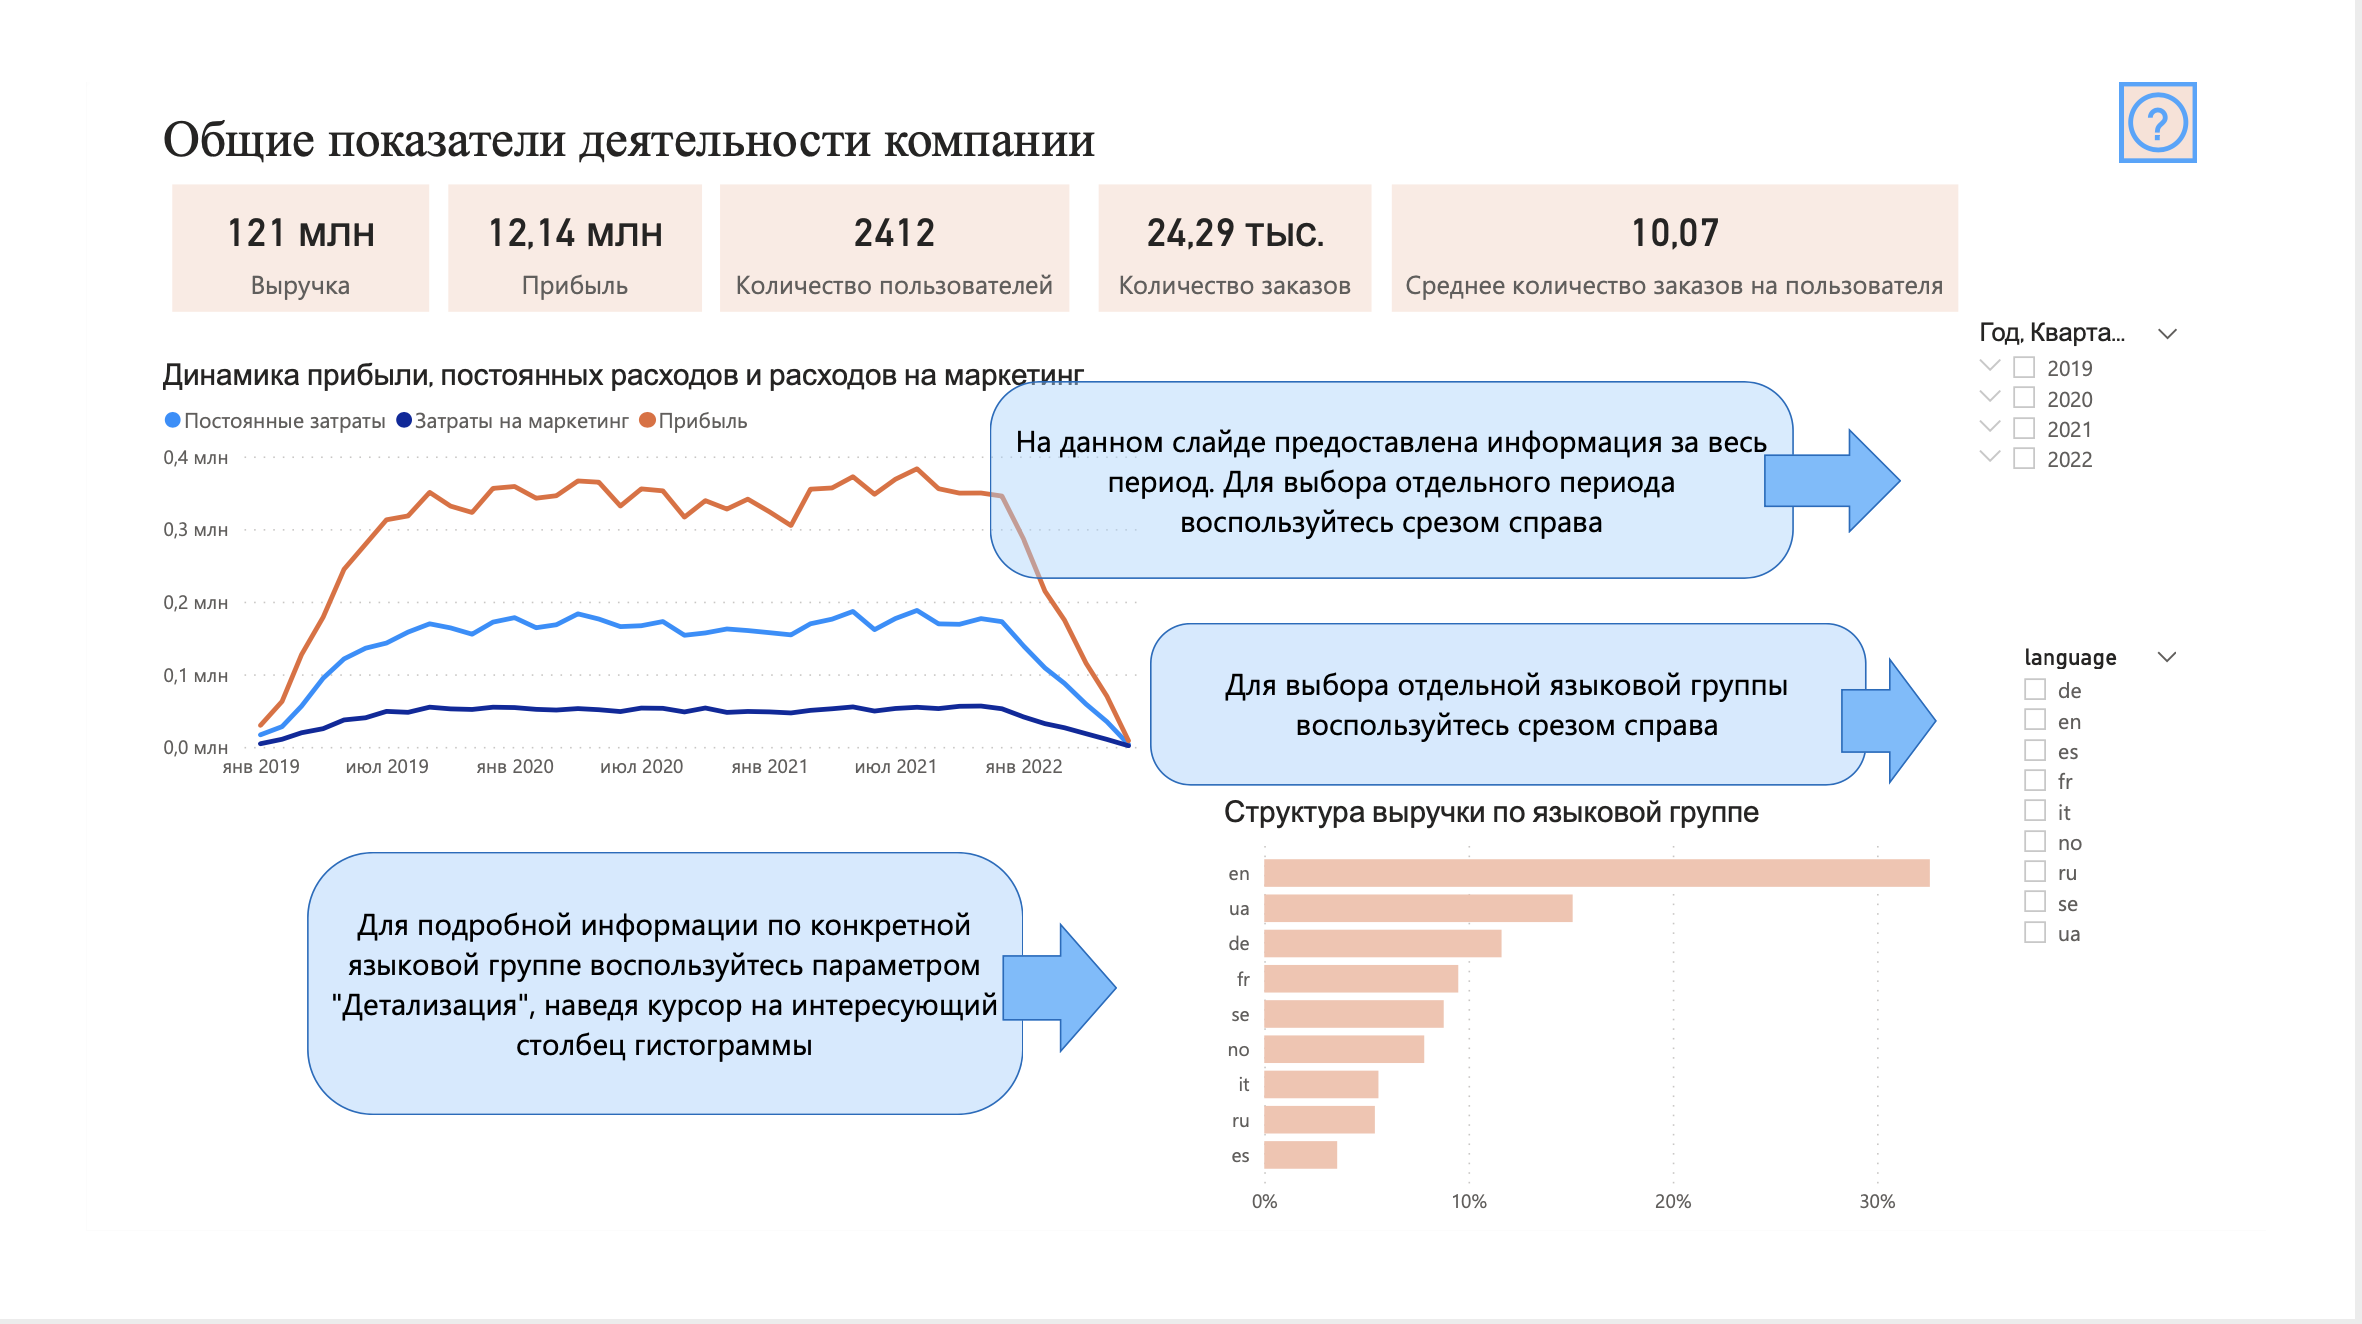

The page's visual inventory and layout, read from the dashboard file:
{"tool":"powerbi","page":{"name":"Общие данные","canvas":[1280,720],"ordinal":1},"visuals":[{"type":"slicer","fields":{"Values":["Все пользователи.language"]},"box":[1158.6,346.6,121.4,204.7],"z":0},{"type":"slicer","fields":{"Values":["Все пользователи.created_date.Изменение.Иерархия дат.Год","Все пользователи.created_date.Изменение.Иерархия дат.Квартал","Все пользователи.created_date.Изменение.Иерархия дат.Месяц","Все пользователи.created_date.Изменение.Иерархия дат.День"]},"box":[1130,143.9,150,203.6],"z":1000},{"type":"textbox","box":[0,12.2,1205,52.1],"z":2000},{"type":"card","fields":{"Values":["Sum(Все пользователи.transaction_value)"]},"box":[10.7,64.3,160.8,79.6],"z":3000},{"type":"card","fields":{"Values":["Sum(Все пользователи.commission)"]},"box":[183.7,64.3,159.2,79.6],"z":4000},{"type":"card","fields":{"Values":["Все пользователи.Среднее количество заказов на пользователя"]},"box":[774.7,64.3,355.2,79.6],"z":5000},{"type":"card","fields":{"Values":["Count(Все пользователи.user_id)"]},"box":[353.7,64.3,218.9,79.6],"z":6000},{"type":"card","fields":{"Values":["Count(Все пользователи.order_id)"]},"box":[591,64.3,171.5,79.6],"z":7000},{"type":"clusteredColumnChart","title":"Динамика выручки","fields":{"Category":["Все пользователи.created_date.Изменение.Иерархия дат.Год","Все пользователи.created_date.Изменение.Иерархия дат.Квартал","Все пользователи.created_date.Изменение.Иерархия дат.Месяц","Все пользователи.created_date.Изменение.Иерархия дат.День"],"Y":["Sum(Все пользователи.transaction_value)"]},"box":[0,479.2,640,240.4],"z":8000},{"type":"lineChart","title":"Динамика прибыли, постоянных расходов и расходов на маркетинг","fields":{"Category":["Все пользователи.created_date.Изменение.Иерархия дат.Год","Все пользователи.created_date.Изменение.Иерархия дат.Квартал","Все пользователи.created_date.Изменение.Иерархия дат.Месяц","Все пользователи.created_date.Изменение.Иерархия дат.День"],"Y":["Sum(Все пользователи.fixed_cost)","Sum(Все пользователи.promocode_cost)","Sum(Все пользователи.commission)"]},"box":[0,173,640,274.1],"z":9000},{"type":"clusteredColumnChart","title":"Динамика количества заказов","fields":{"Category":["Все пользователи.created_date.Изменение.Иерархия дат.Год","Все пользователи.created_date.Изменение.Иерархия дат.Квартал","Все пользователи.created_date.Изменение.Иерархия дат.Месяц","Все пользователи.created_date.Изменение.Иерархия дат.День"],"Y":["Count(Все пользователи.order_id)"]},"box":[652.2,173,477.7,245],"z":10000},{"type":"barChart","title":"Структура выручки по языковой группе","fields":{"Category":["Все пользователи.language"],"Y":["Sum(Все пользователи.transaction_value)"]},"box":[664.5,447.1,494.5,272.5],"z":11000},{"type":"actionButton","box":[1232.5,0,47.5,52.1],"z":12000}]}

Visuals, with their boxes in screenshot pixels (x1, y1, x2, y2), scaled from the page's 1280x720 canvas onto the 2362x1324 screenshot:
slicer - Все пользователи.language: (2138,637,2361,1014)
slicer - Все пользователи.created_date.Изменение.Иерархия дат.Год x Все пользователи.created_date.Изменение.Иерархия дат.Квартал: (2085,265,2361,639)
textbox: (0,22,2224,118)
card - Sum(Все пользователи.transaction_value): (20,118,316,265)
card - Sum(Все пользователи.commission): (339,118,633,265)
card - Все пользователи.Среднее количество заказов на пользователя: (1430,118,2085,265)
card - Count(Все пользователи.user_id): (653,118,1057,265)
card - Count(Все пользователи.order_id): (1091,118,1407,265)
"Динамика выручки" clusteredColumnChart: (0,881,1181,1323)
"Динамика прибыли, постоянных расходов и расходов на маркетинг" lineChart: (0,318,1181,822)
"Динамика количества заказов" clusteredColumnChart: (1204,318,2085,769)
"Структура выручки по языковой группе" barChart: (1226,822,2139,1323)
actionButton: (2274,0,2361,96)
